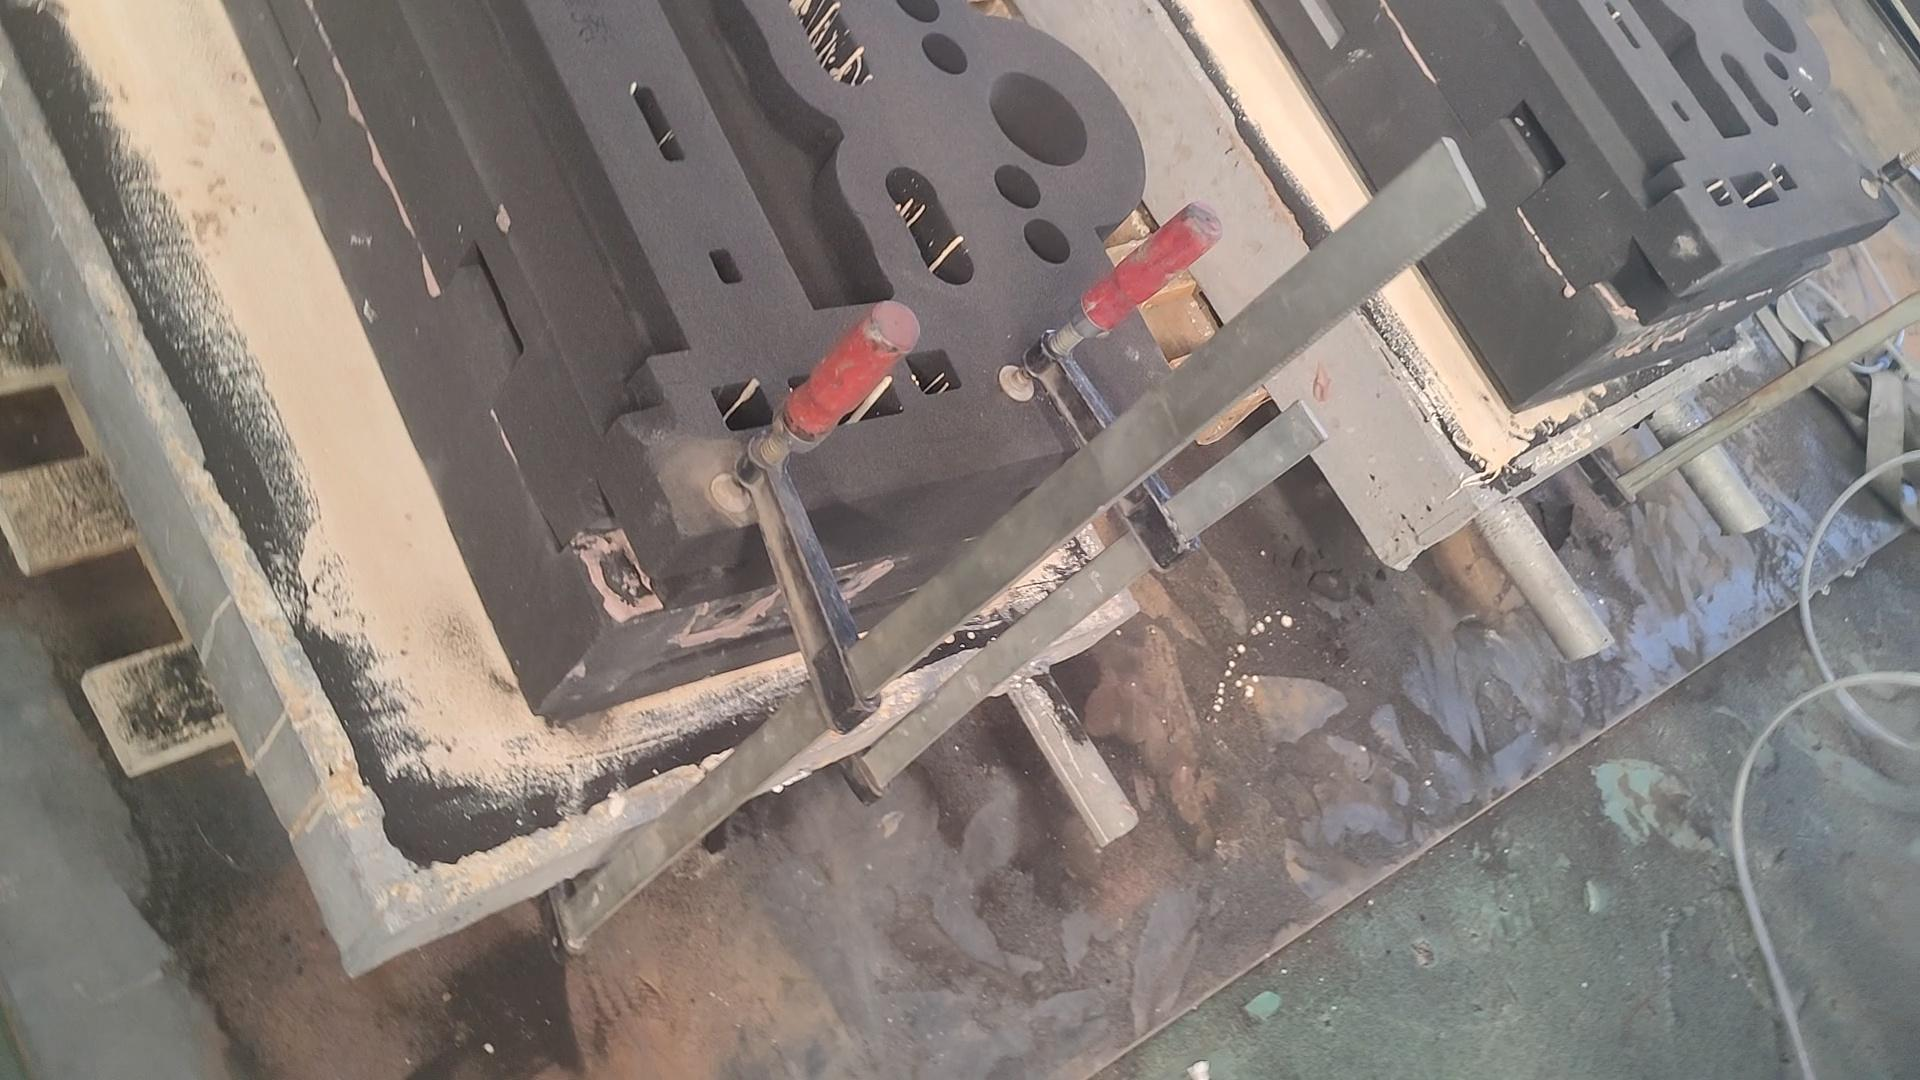pouring hole: (989, 71, 1088, 167), (1742, 1, 1799, 54)
